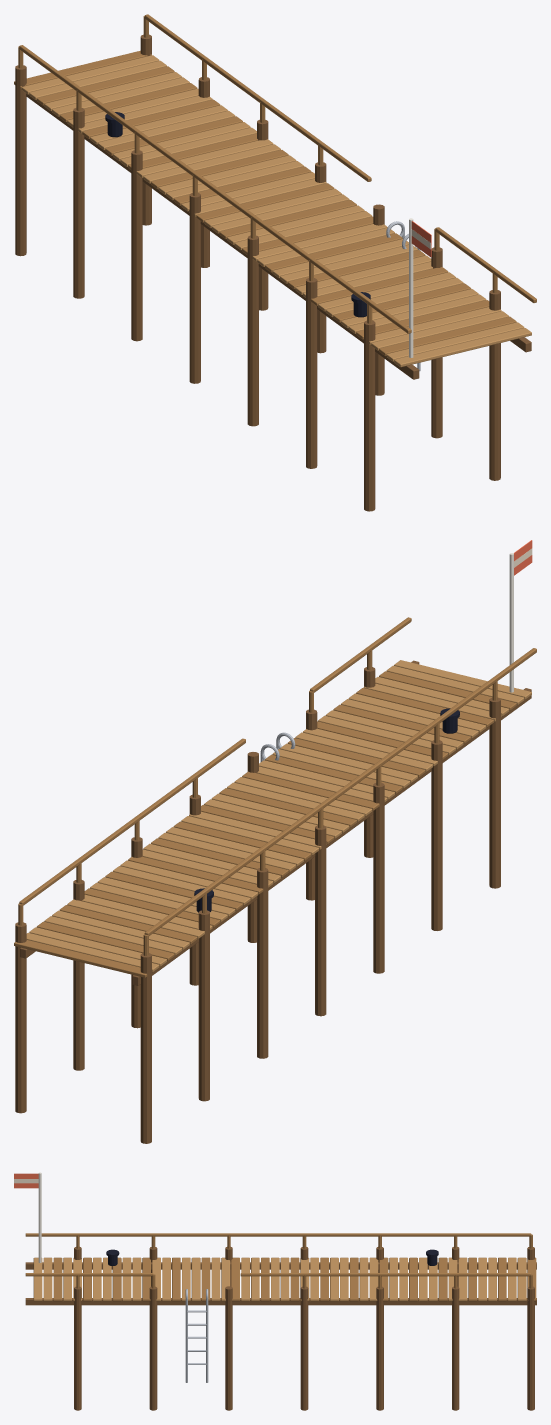
File: pier.glb
3 views of the same model, one above another, from view 1: azimuth 30°, elevation 25°; view 2: azimuth 150°, elevation 25°; view 3: azimuth 270°, elevation 25° (orthographic). The views are drawn at different scales.
Parts seen in each view (by area): view 1: rail-1_0, post-1_3, post-1_4, post-1_2, post-1_0, post-1_1, post-1_6, post-1_5, post1_6, rail1_0, joist-1, plank50 (+58 smaller); view 2: rail-1_0, post-1_4, post-1_6, post-1_2, post-1_0, post-1_3, post-1_5, post-1_1, post1_0, rail1_0, post1_1, joist-1 (+52 smaller); view 3: joist1, rail-1_0, rail1_0, post1_3, post1_5, post1_4, post1_0, post1_1, post1_2, post1_6, joist-1, rail1_1 (+48 smaller).
Boxes of the visible parts, x1=… form: rail-1_0: x1=19, y1=45, x2=411, y2=333; post-1_3: x1=189, y1=193, x2=200, y2=383; post-1_4: x1=247, y1=235, x2=258, y2=426; post-1_2: x1=131, y1=150, x2=142, y2=341; post-1_0: x1=15, y1=65, x2=26, y2=256; post-1_1: x1=73, y1=108, x2=84, y2=298; post-1_6: x1=364, y1=320, x2=375, y2=511; post-1_5: x1=306, y1=278, x2=317, y2=468; post1_6: x1=489, y1=290, x2=500, y2=480; rail1_0: x1=144, y1=14, x2=371, y2=181; joist-1: x1=26, y1=93, x2=419, y2=379; plank50: x1=394, y1=328, x2=531, y2=367; rail-1_0: x1=144, y1=648, x2=536, y2=935; post-1_4: x1=373, y1=782, x2=384, y2=973; post-1_6: x1=489, y1=697, x2=500, y2=888; post-1_2: x1=257, y1=868, x2=268, y2=1058; post-1_0: x1=140, y1=953, x2=151, y2=1143; post-1_3: x1=315, y1=825, x2=326, y2=1016; post-1_5: x1=431, y1=740, x2=442, y2=930; post-1_1: x1=198, y1=910, x2=209, y2=1101; post1_0: x1=15, y1=922, x2=26, y2=1113; rail1_0: x1=19, y1=738, x2=245, y2=905; post1_1: x1=73, y1=880, x2=84, y2=1070; joist-1: x1=132, y1=688, x2=531, y2=985; joist1: x1=25, y1=1298, x2=536, y2=1305; rail-1_0: x1=25, y1=1233, x2=531, y2=1236; rail1_0: x1=240, y1=1273, x2=531, y2=1276; post1_3: x1=300, y1=1286, x2=308, y2=1410; post1_5: x1=149, y1=1286, x2=157, y2=1410; post1_4: x1=225, y1=1286, x2=232, y2=1410; post1_0: x1=527, y1=1286, x2=534, y2=1410; post1_1: x1=452, y1=1286, x2=459, y2=1410; post1_2: x1=376, y1=1286, x2=383, y2=1410; post1_6: x1=74, y1=1286, x2=81, y2=1410; joist-1: x1=25, y1=1262, x2=536, y2=1269; rail1_1: x1=25, y1=1273, x2=153, y2=1276.
Size of the model in its own units: 3.6 by 7.6 by 18.
